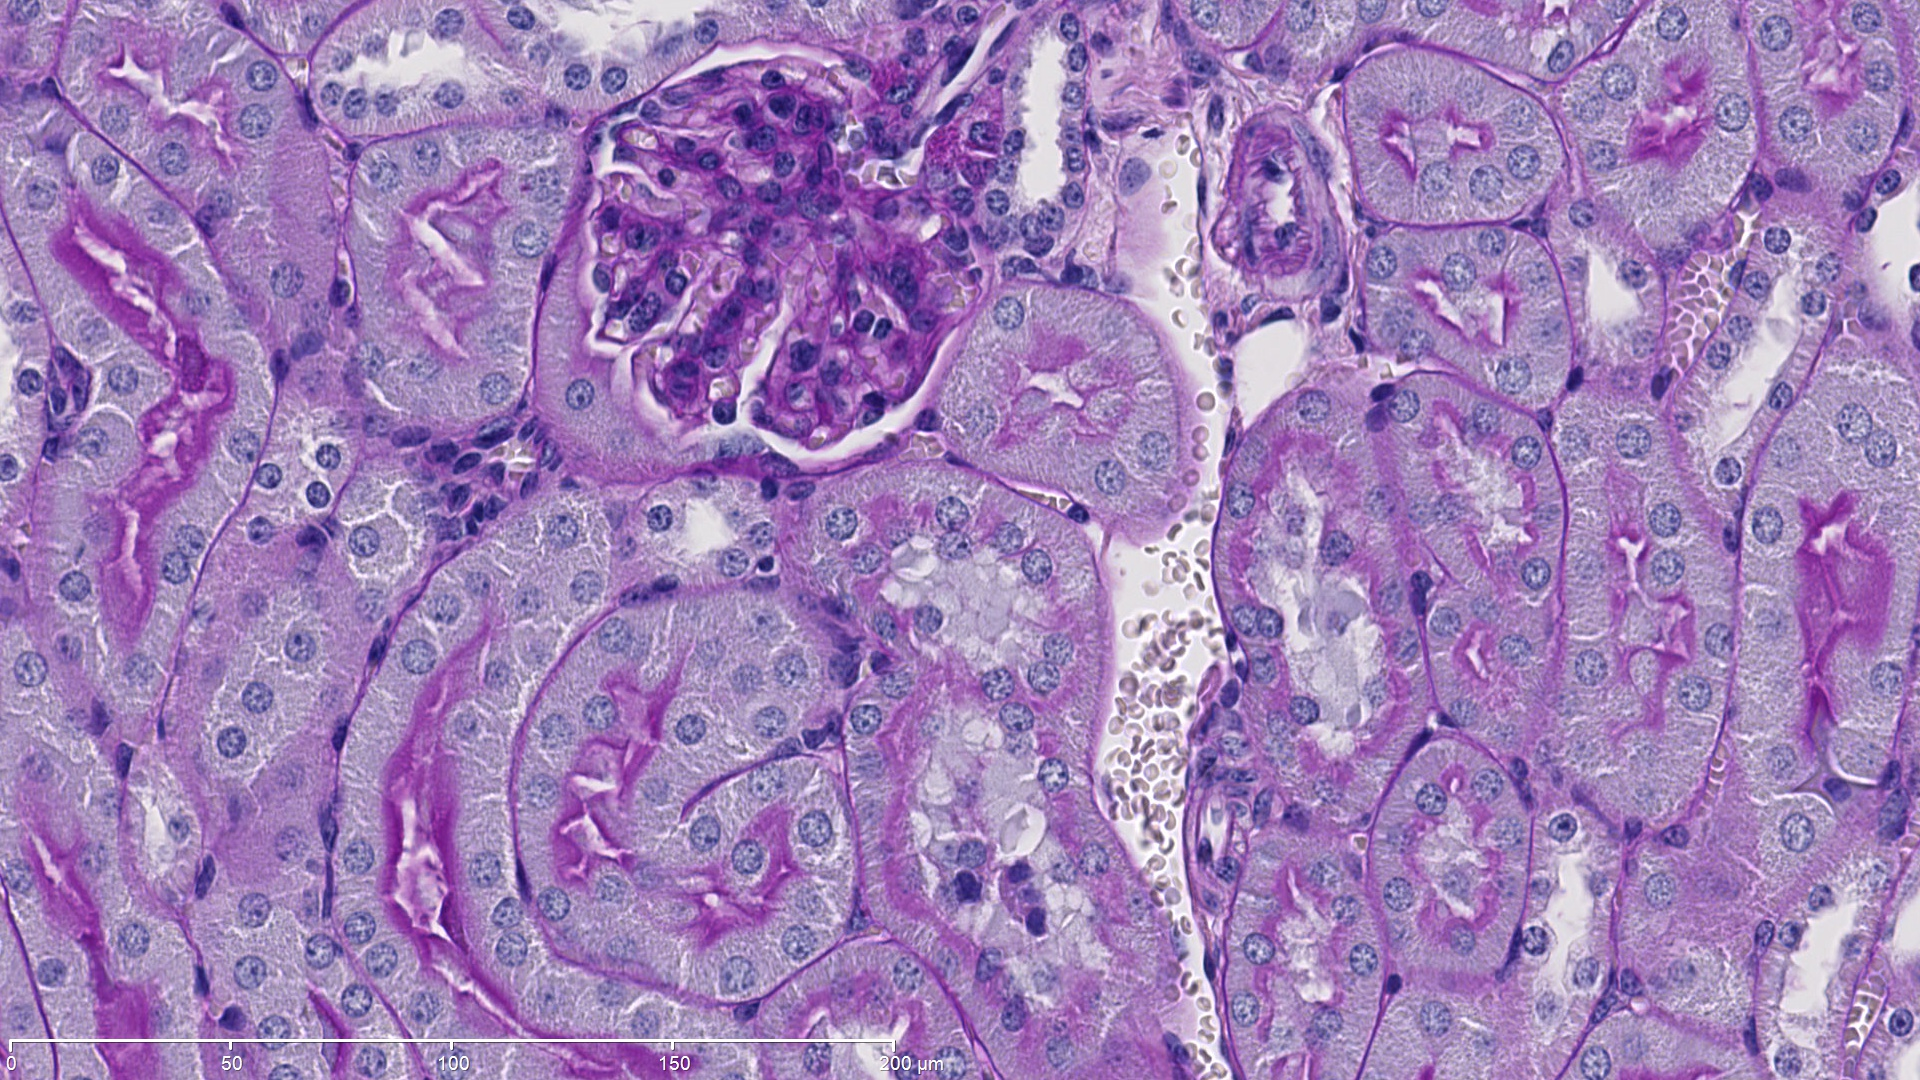Glomeruli: (570, 47, 992, 465)
